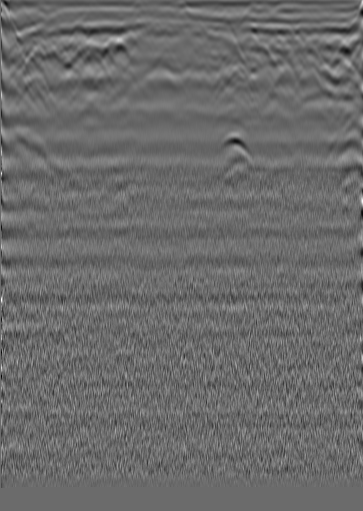가스: (212, 130, 255, 158)
상수: (318, 28, 338, 48)
오수: (26, 39, 46, 59)
우수: (176, 21, 196, 41)
